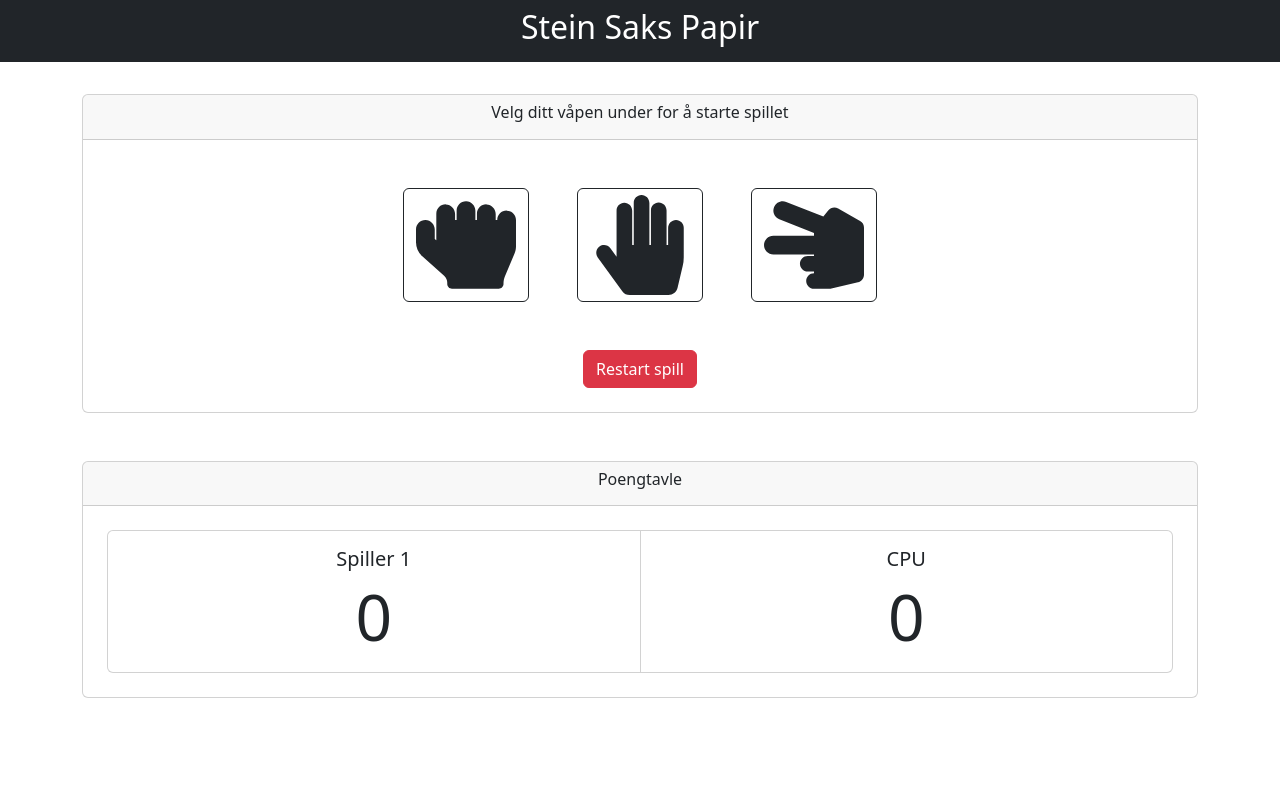
Besøk hjemmesiden, se at elementer eksisterer i DOM og at knappene fungerer › Vi klikker på Saks og vi kan se et resultat
Click the button with test id "Saks" at (814, 245), box [751,188,877,302]
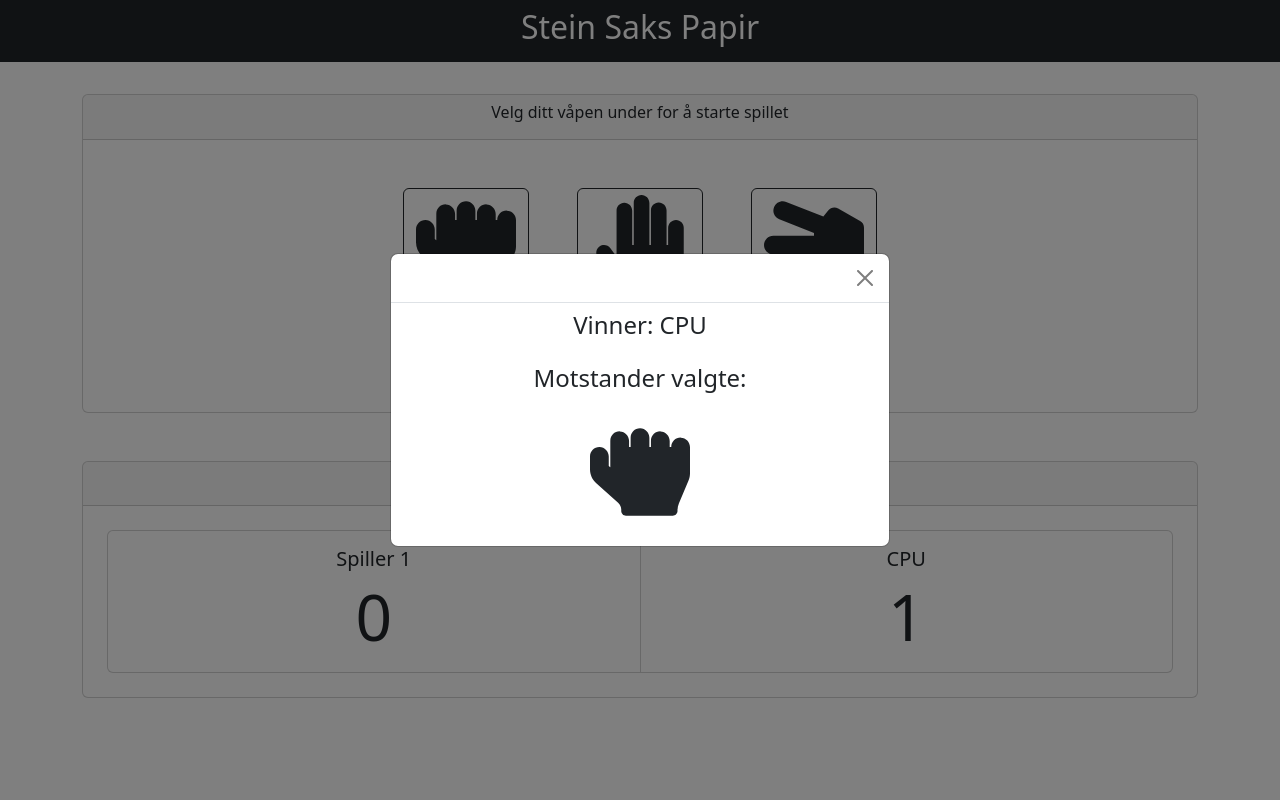
Check: the heading "Vinner: CPU" is shown, box [573,308,707,341]
